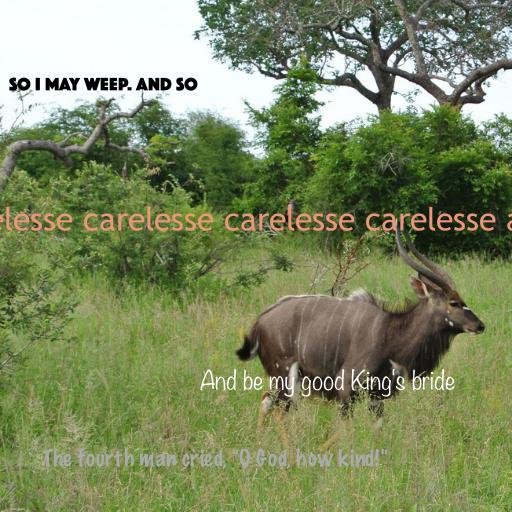Marker Felt: (43, 448, 387, 469)
Noteworthy: (199, 368, 455, 397)
Phosphate: (8, 77, 198, 91)
Trebuchet MS: (0, 206, 512, 231)
